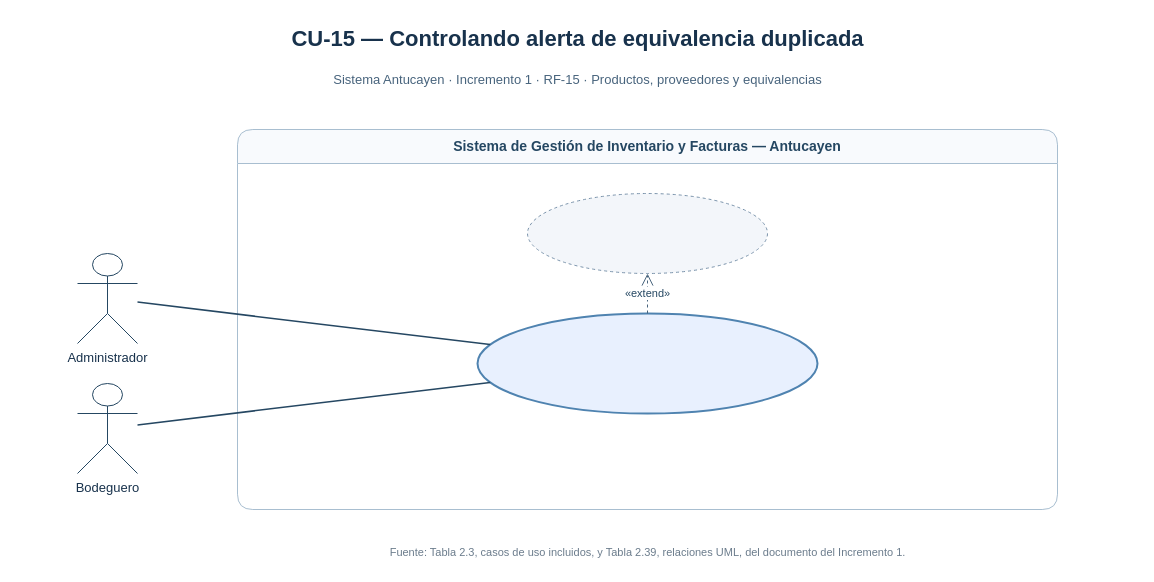
This 1154x582 diagram has some shape labels left out. Here are the shapes that lost their labels. From the top down, the centre of each, then its label:
At (x=647, y=233): "CU-14 Validando equivalencia única por proveedor".
At (x=647, y=363): "CU-15 Controlando alerta de equivalencia duplicada".
